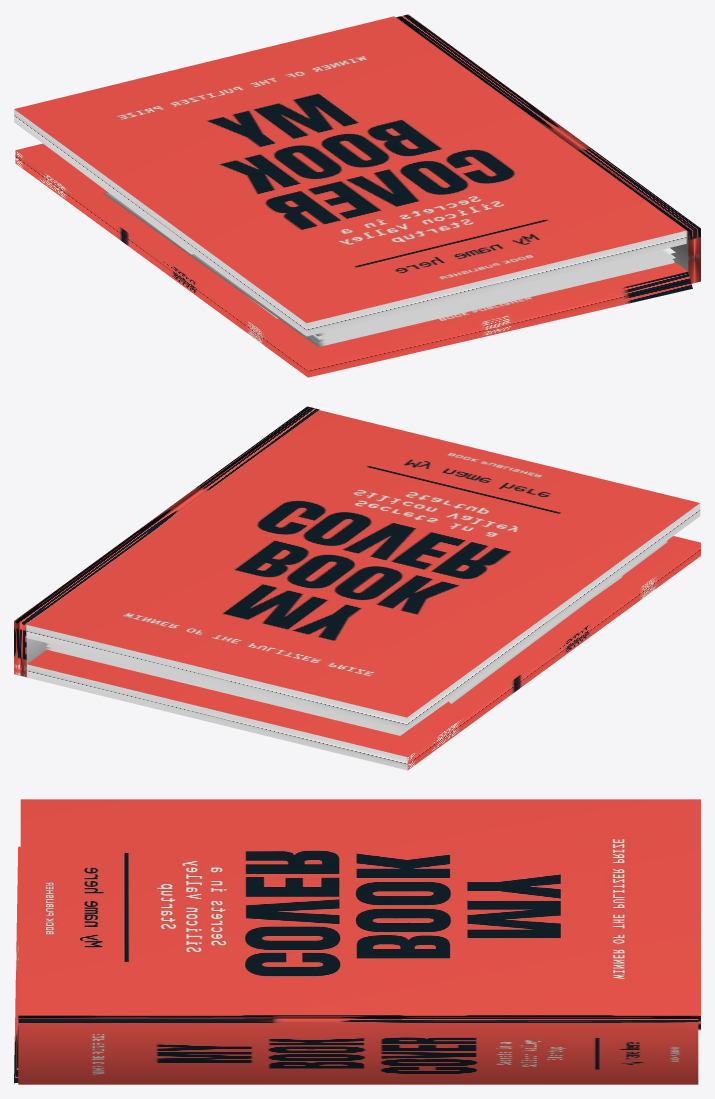
The model's file is book.glb.
The picture shows the model from 3 angles, top to bottom: view 1: azimuth 30°, elevation 25°; view 2: azimuth 150°, elevation 25°; view 3: azimuth 270°, elevation 25°; orthographic projection. The views are drawn at different scales.
Parts seen in each view (by area): view 1: Cover L, Cover R, Spine, P3.back, P5.back, P2.back, P3.front, P4.back; view 2: Cover L, Cover R, Spine, P5.front, P5.back, P4.back, P4.front; view 3: Cover L, Spine, Cover R.
Part boxes in pixels (x1,y1,x2,y2): Cover L: (14,16,686,336); Cover R: (15,143,692,377); Spine: (396,14,700,283); P3.back: (309,254,674,342); P5.back: (103,192,674,346); P2.back: (315,255,648,336); P3.front: (314,248,675,339); P4.back: (295,259,674,345); Cover L: (26,410,700,730); Cover R: (27,536,700,770); Spine: (14,406,319,677); P5.front: (43,576,622,735); P5.back: (449,541,667,703); P4.back: (46,540,667,730); P4.front: (43,642,400,730); Cover L: (20,799,700,1030); Spine: (18,1015,698,1084); Cover R: (14,846,20,1083).
Bounding box in the file's own units: 1.55 × 0.2148 × 2.02.
14 materials, 4 textured.
